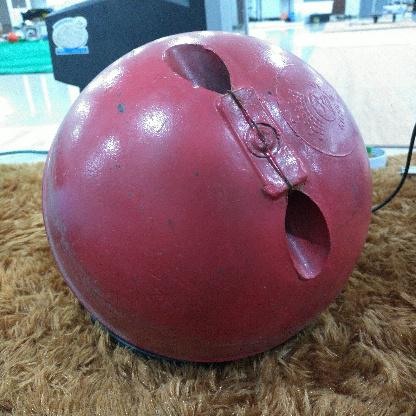red_buoy: (42, 28, 372, 368)
